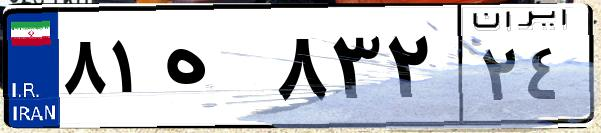1: (110, 28, 158, 98)
2: (385, 28, 445, 110), (475, 38, 525, 113)
3: (330, 28, 385, 110)
4: (525, 38, 570, 115)
8: (270, 28, 330, 110), (57, 26, 110, 100)
ه: (158, 20, 270, 120)
